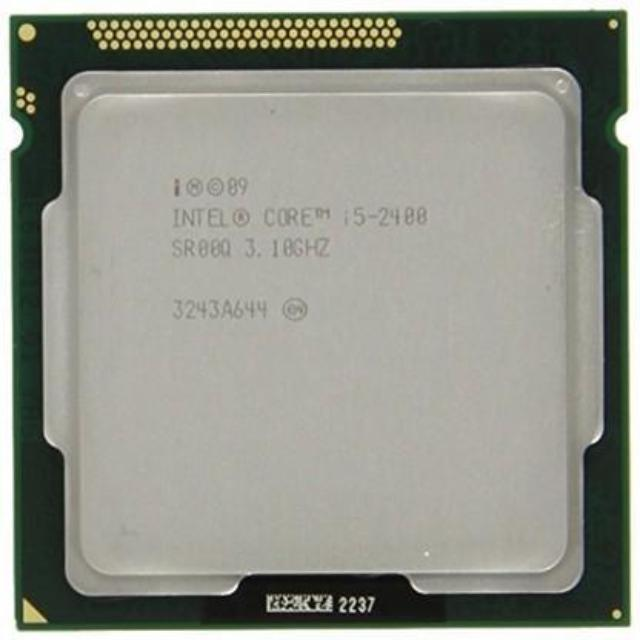CPU: (12, 15, 638, 640)
